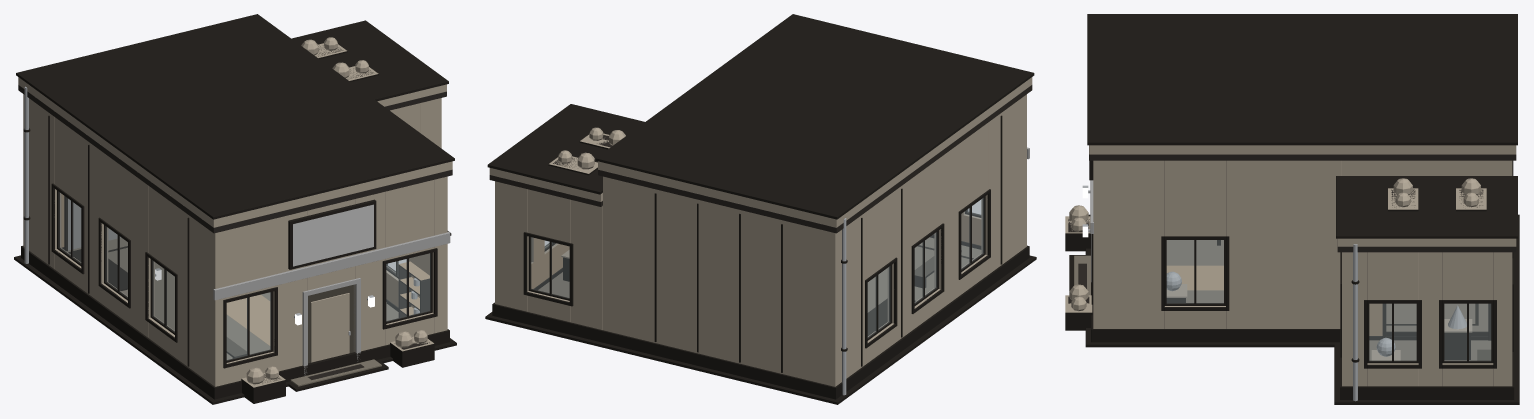
Rendered from rival1_v1.glb.
3 renders of one model, left to right at view 1: azimuth 30°, elevation 25°; view 2: azimuth 150°, elevation 25°; view 3: azimuth 270°, elevation 25°, orthographic. The views are drawn at different scales.
Visible parts, largest first — view 1: SM_rival1_v1_Shell, SM_rival1_v1_Sign, SM_rival1_v1_Door; view 2: SM_rival1_v1_Shell; view 3: SM_rival1_v1_Shell.
Part boxes in pixels (bbox=[...]): SM_rival1_v1_Shell: bbox=[14, 14, 456, 404]; SM_rival1_v1_Sign: bbox=[293, 204, 373, 266]; SM_rival1_v1_Door: bbox=[308, 285, 353, 363]; SM_rival1_v1_Shell: bbox=[485, 14, 1036, 404]; SM_rival1_v1_Shell: bbox=[1065, 14, 1519, 404].
Bounding box in the file's own units: 13.04 × 6.61 × 13.34.
